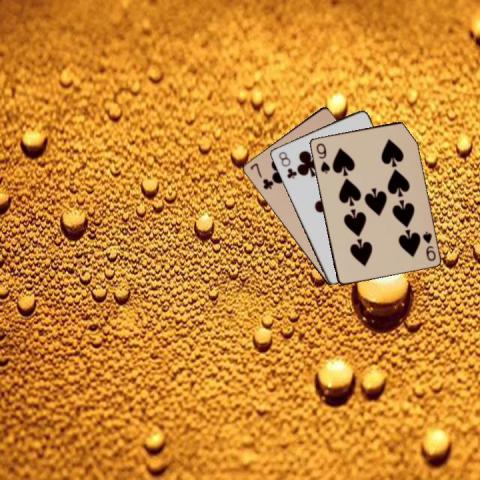7c: (247, 160, 274, 191)
8c: (276, 149, 298, 180)
9s: (313, 140, 331, 175), (419, 228, 437, 262)
